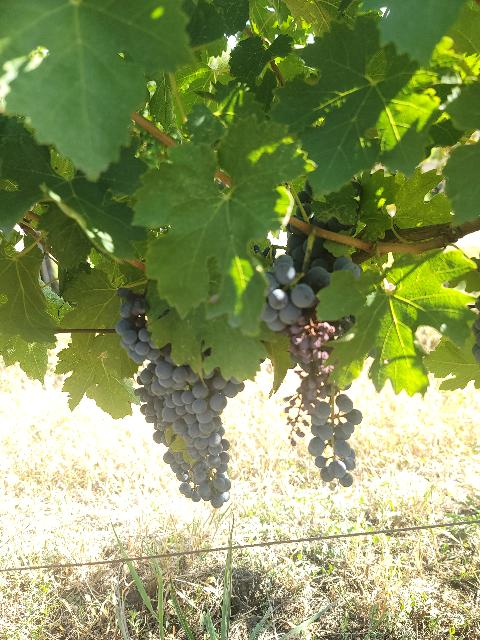grapes: (115, 288, 244, 509), (260, 252, 330, 331), (308, 394, 362, 488), (332, 258, 362, 279)
